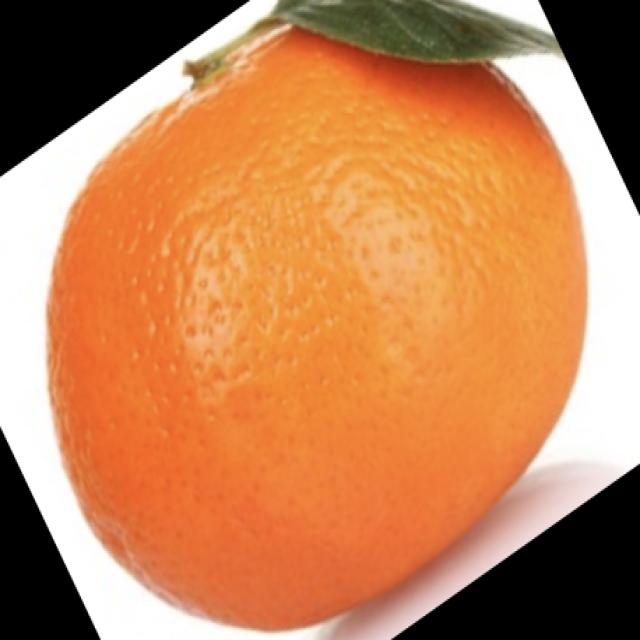fresh: (37, 0, 589, 638)
